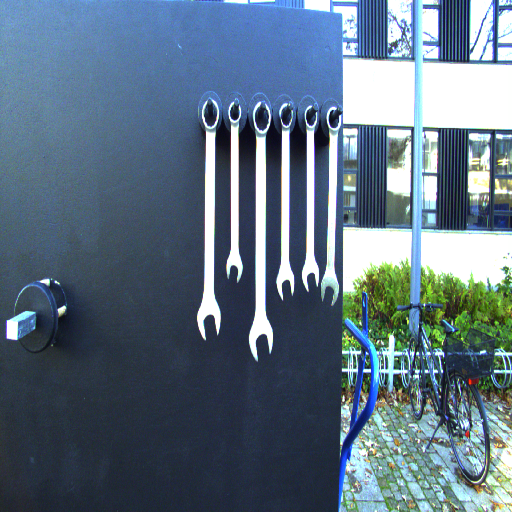bottom: (195, 305, 225, 342), (248, 321, 274, 363), (274, 269, 297, 302), (223, 255, 244, 285), (300, 264, 321, 294), (320, 277, 339, 308)
top: (249, 100, 274, 137), (199, 97, 222, 133), (324, 102, 344, 133), (301, 102, 321, 131), (276, 101, 294, 130), (225, 100, 245, 125)
